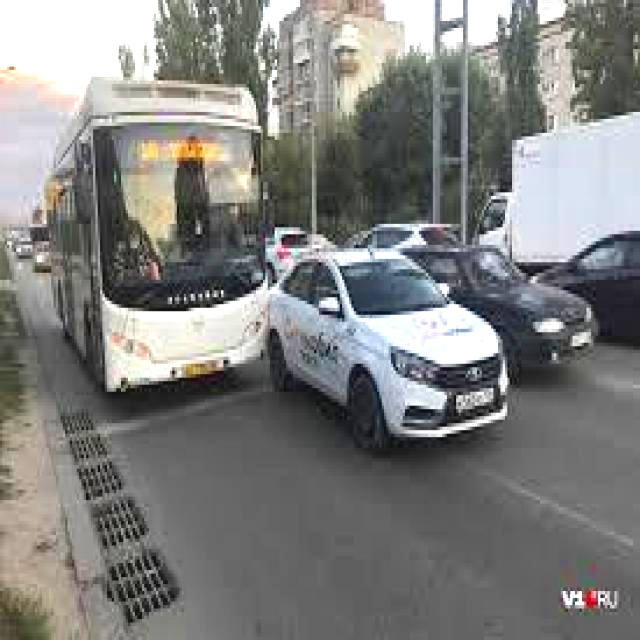bus: (22, 56, 282, 407)
car: (237, 218, 507, 486), (386, 228, 622, 364)
